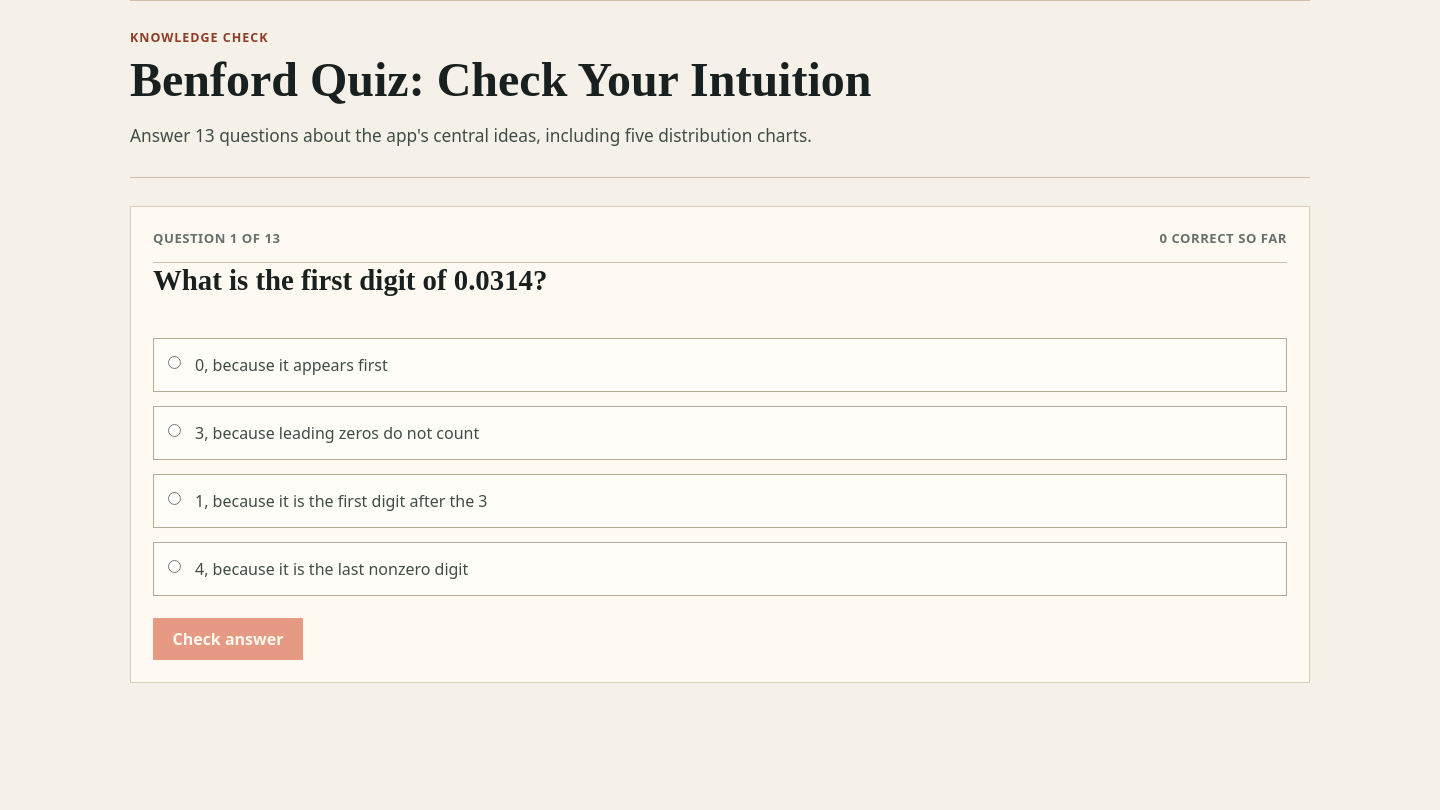
it: QuizPage › waits for submission, then names and highlights the correct choice
Check: the heading "Benford Quiz: Check Your Intuition" is shown, box [130,56,980,103]
Check: the text "Question 1 of 13" is shown, box [153,229,280,248]
Click the radio button labelled "0, because it appears first" at coordinates (174, 363), box [168,356,181,369]
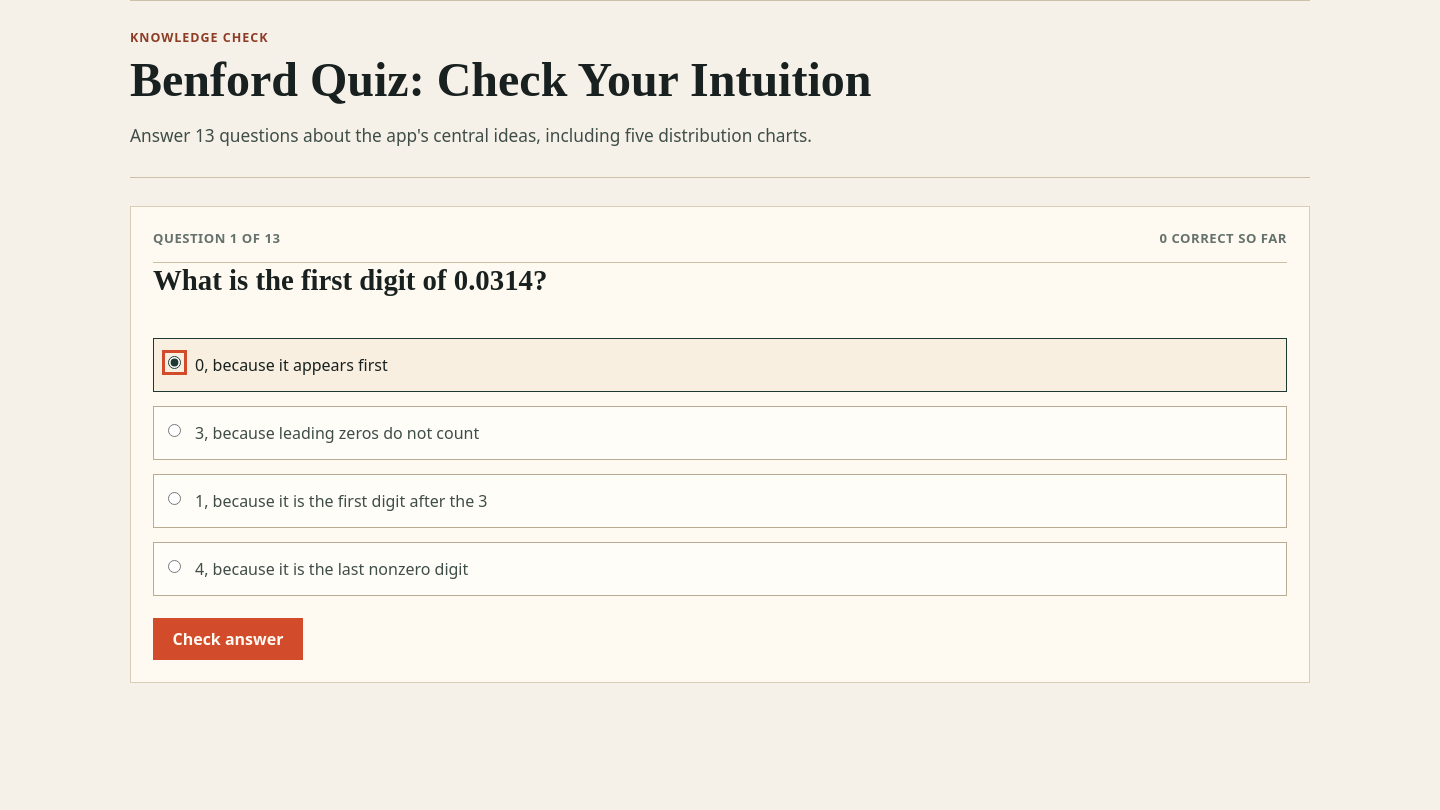
Click the button "Check answer" at coordinates (228, 639), box [153,618,303,660]
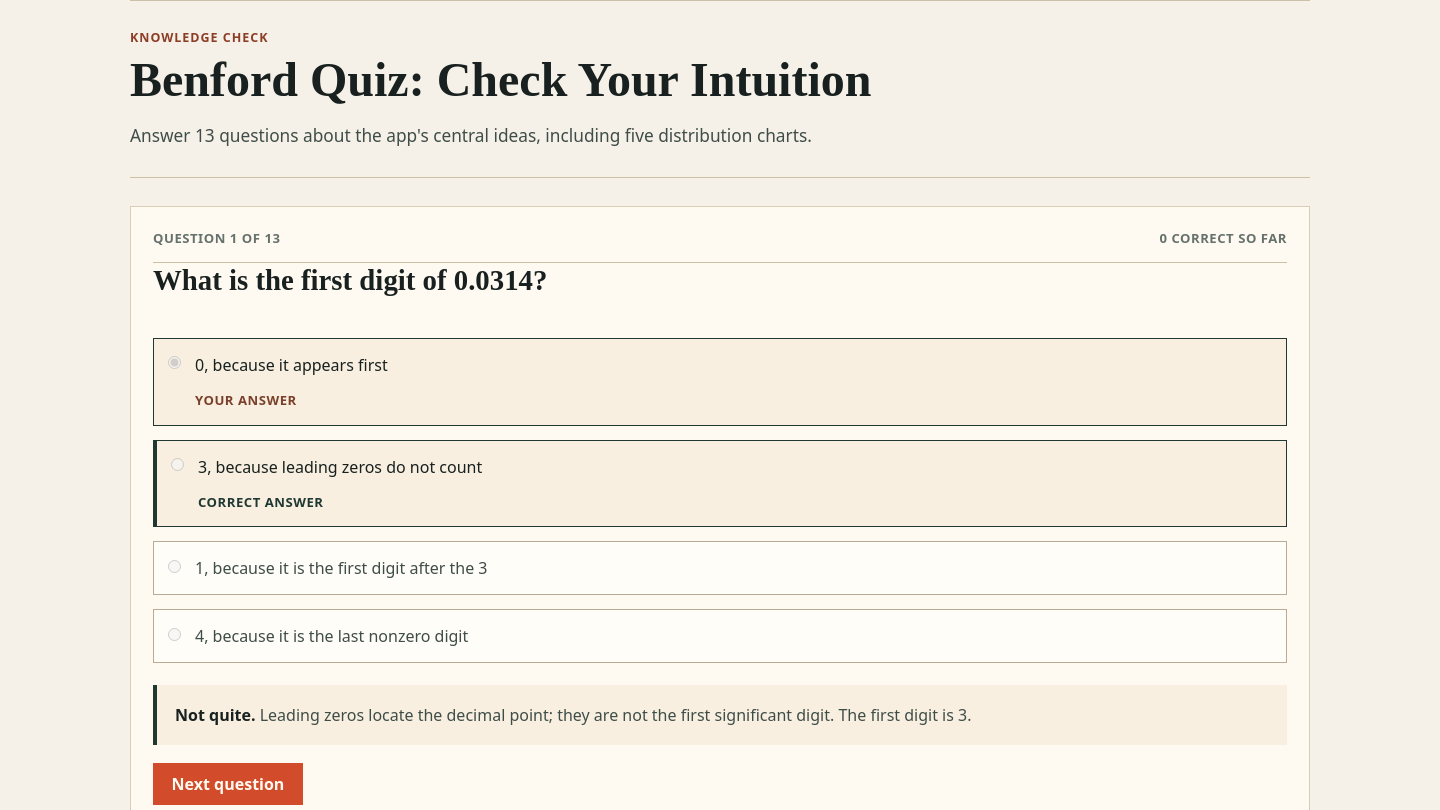
Check: the radio button labelled "0, because it appears first Your answer" is checked, box [168,356,181,369]
Check: the radio button labelled "0, because it appears first Your answer" is disabled, box [168,356,181,369]
Check: the message shows "Leading zeros locate the decimal point", box [260,704,972,726]
